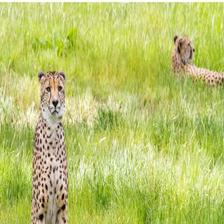Cheetah: (25, 66, 75, 221), (170, 28, 224, 87)
